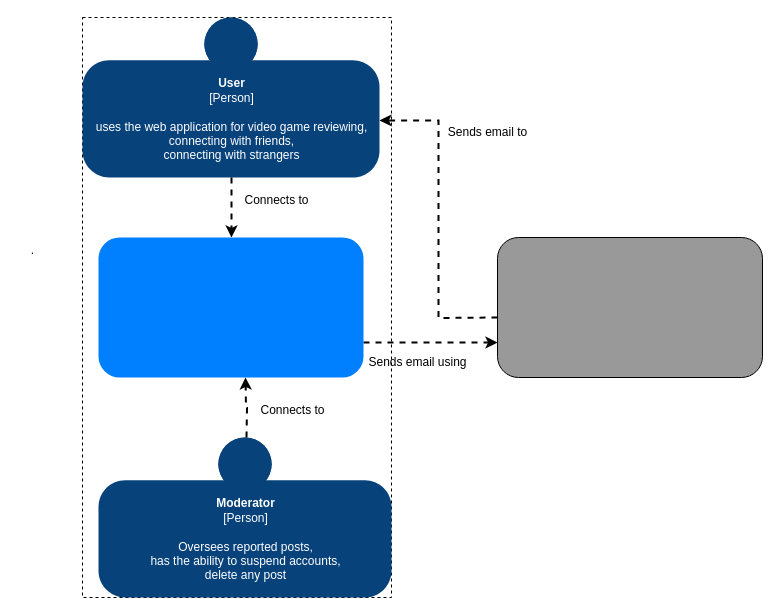
This 780x615 diagram has some shape labels left out. Each missing label, with the centre of its shape:
E-mail system Sends email to user [Software system]: point 629,307
Video game reviewing, chatting and forum-based web application [Software system]: point 230,307
